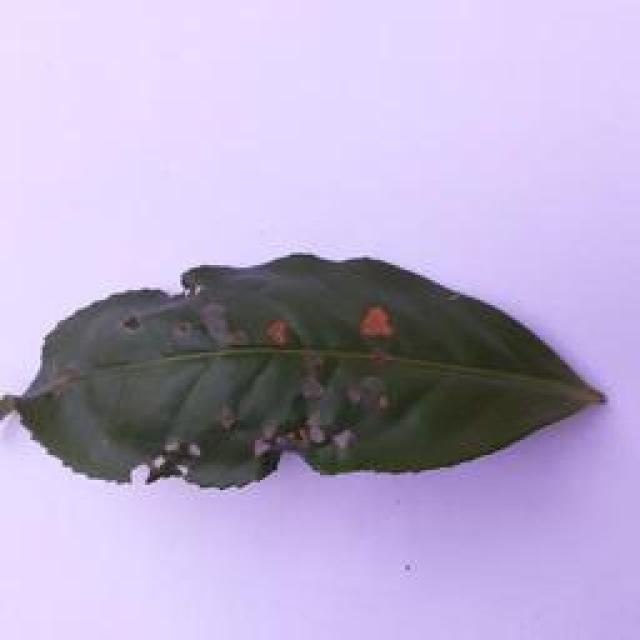Helopeltis: (4, 251, 615, 506)
